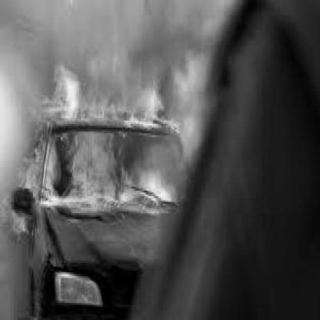Fire: (4, 65, 184, 237)
Smoke: (3, 3, 221, 65)
